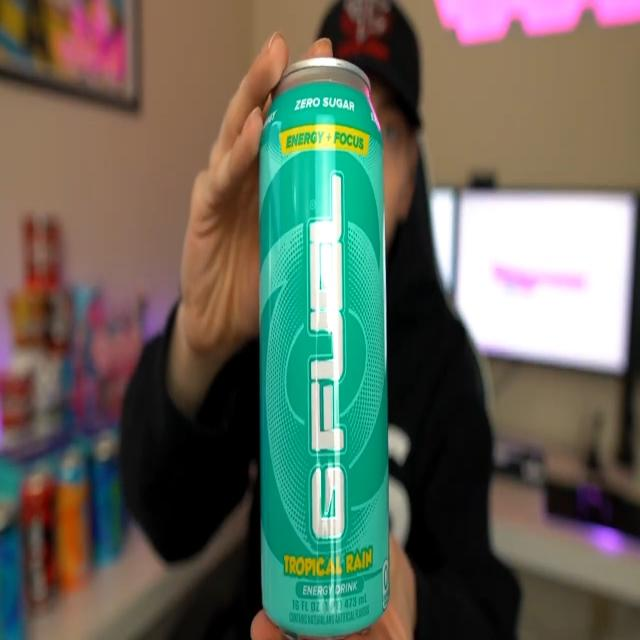can: (256, 49, 389, 640)
